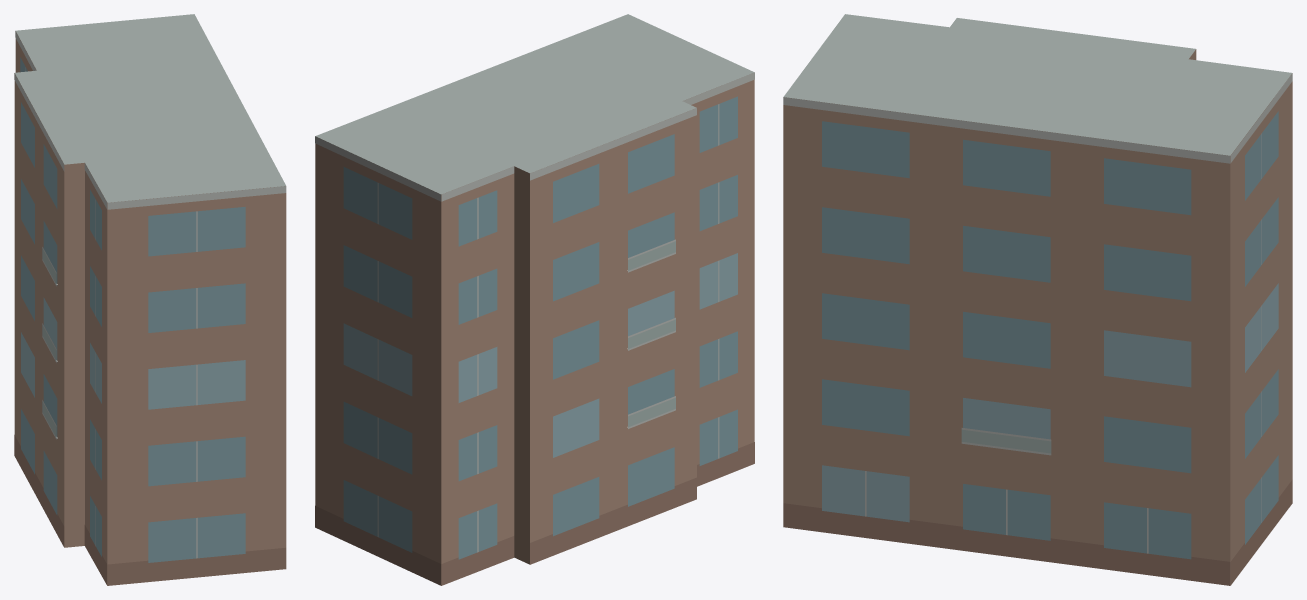
The model's file is survey-upis-32531619.glb.
3 views of the same model, side by side, from view 1: azimuth 30°, elevation 25°; view 2: azimuth 150°, elevation 25°; view 3: azimuth 270°, elevation 25° (orthographic). The views are drawn at different scales.
Visible parts, largest first — view 1: survey-upis-32531619.tmp; view 2: survey-upis-32531619.tmp; view 3: survey-upis-32531619.tmp.
Part boxes in pixels (box(x1,y1,x2,y2)): survey-upis-32531619.tmp: box(14, 14, 286, 585); survey-upis-32531619.tmp: box(315, 14, 754, 585); survey-upis-32531619.tmp: box(783, 14, 1292, 585).
Bounding box in the file's own units: 9.34 × 13.2 × 14.17.
